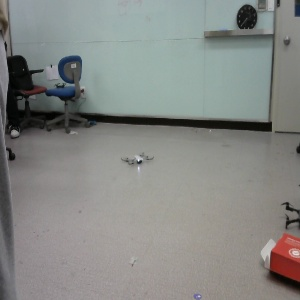Drone: (120, 153, 152, 171)
